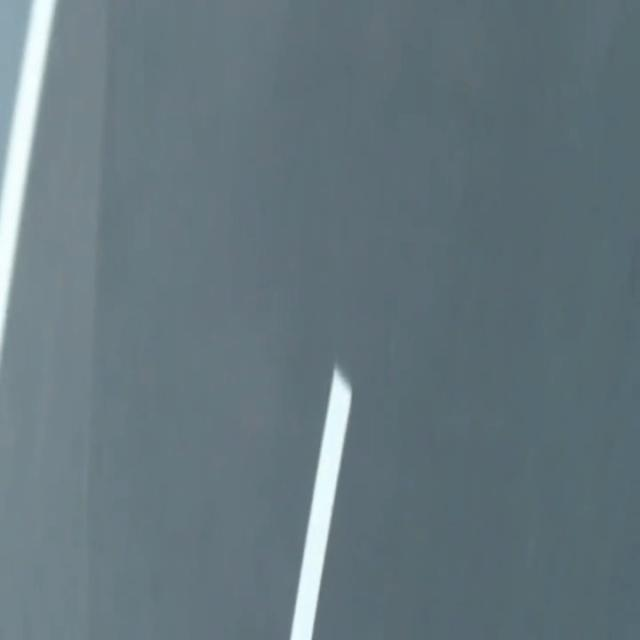center: (290, 366, 351, 639)
left: (0, 0, 57, 364)
